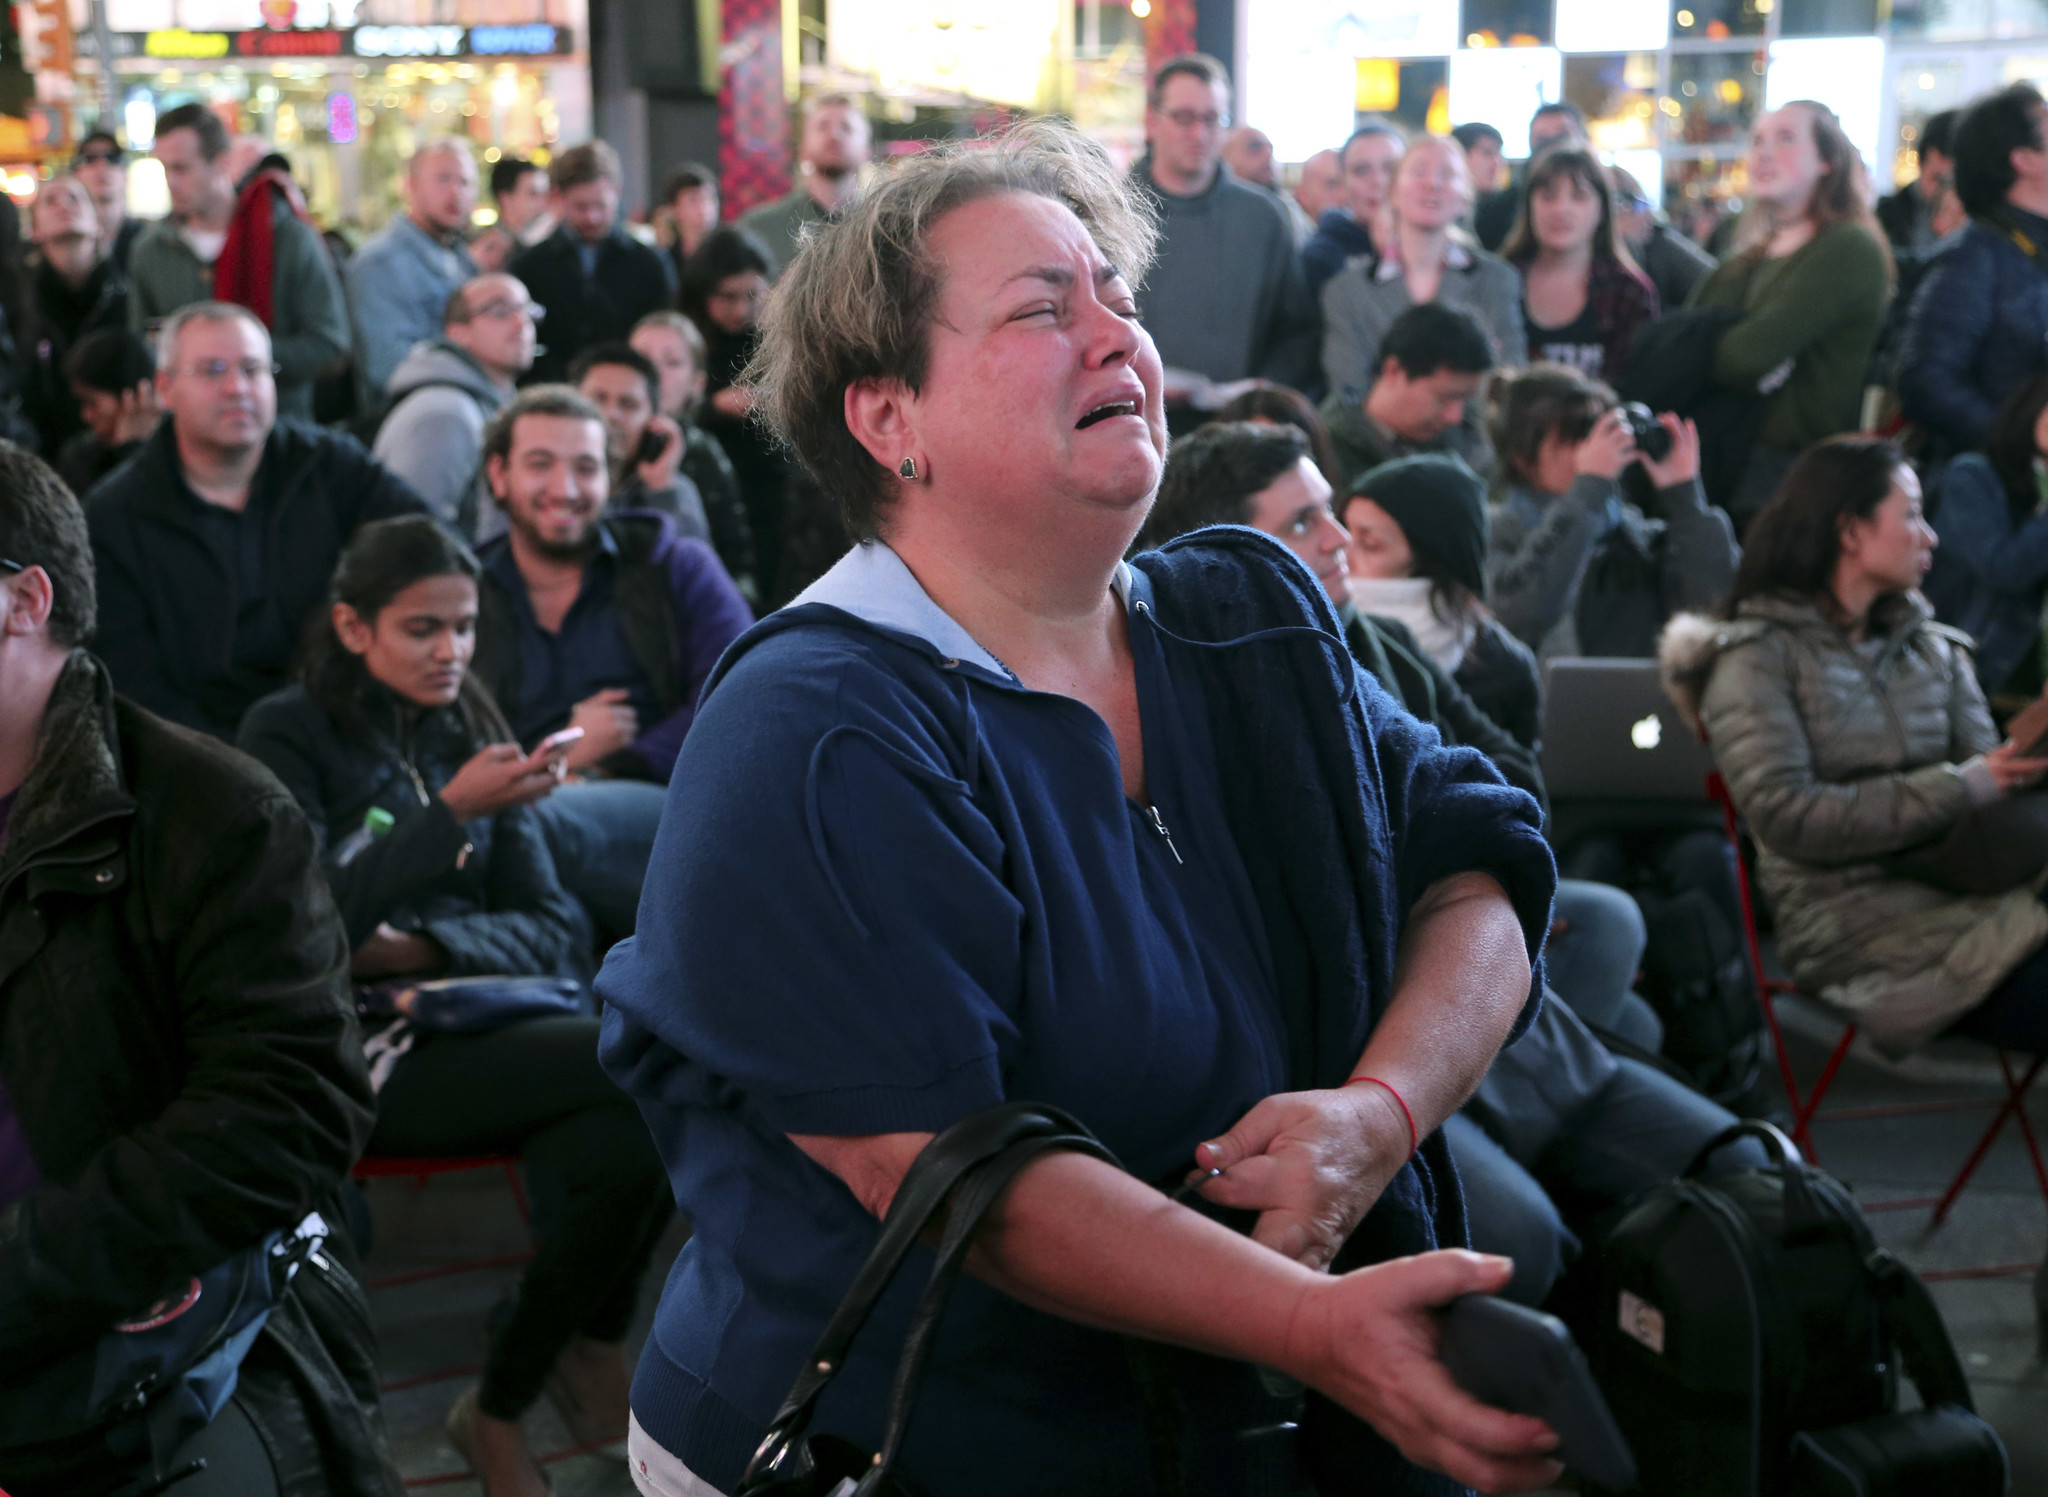sad: (867, 194, 1202, 531)
